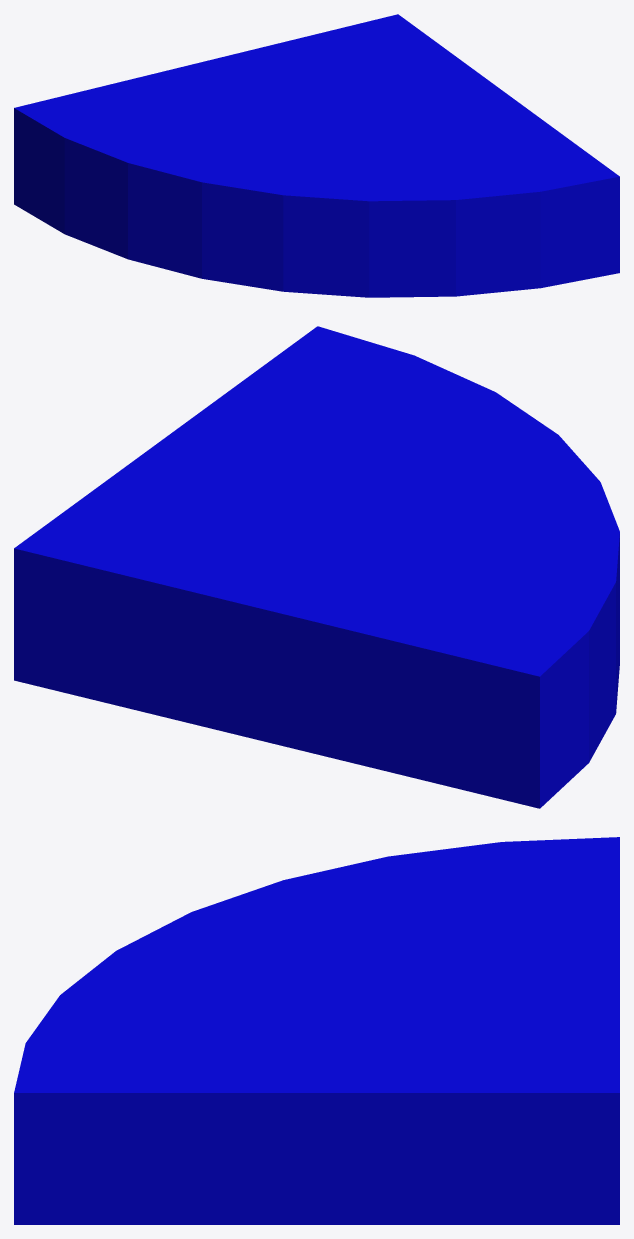
Rendered from BlueButton.fbx.
3 views of the same model, one above another, from view 1: azimuth 30°, elevation 25°; view 2: azimuth 150°, elevation 25°; view 3: azimuth 270°, elevation 25° (orthographic). The views are drawn at different scales.
Parts seen in each view (by area): view 1: Cylinder.002; view 2: Cylinder.002; view 3: Cylinder.002.
Boxes of the visible parts, <box> form: Cylinder.002: <box>14,14,619,297</box>; Cylinder.002: <box>14,326,619,808</box>; Cylinder.002: <box>14,837,619,1224</box>.
Size of the model in its own units: 100 by 24 by 100.
